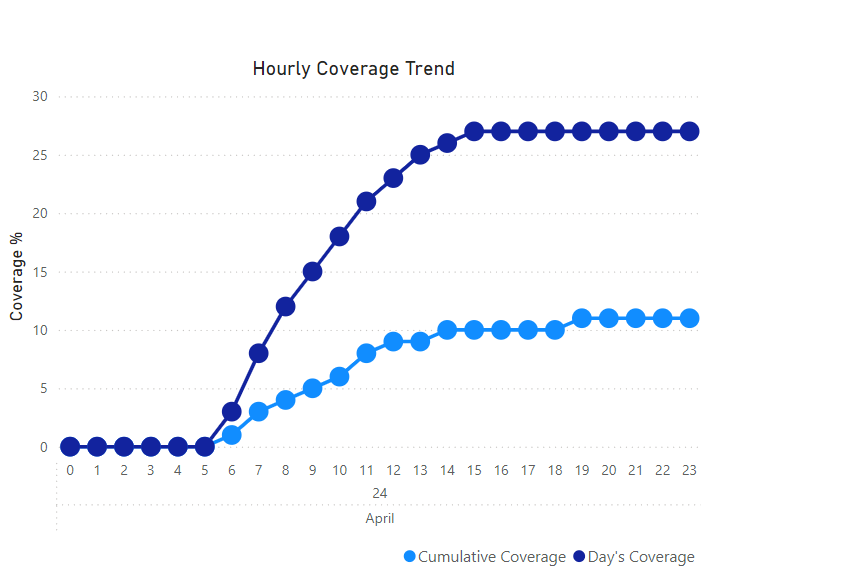

This screenshot's page, from the dashboard's own definition file:
{"tool":"powerbi","page":{"name":"Hourely Coverage Trend","canvas":[1280,720],"ordinal":5},"visuals":[{"type":"lineChart","title":"Hourly Coverage Trend","fields":{"Y":["Sum(cumulative-coverage-hourly?range=-3&group=month.data.cumulative)","Sum(cumulative-coverage-hourly?range=-3&group=month.data.currentDay)"],"Category":["cumulative-coverage-hourly?range=-3&group=month.data.time.Variation.Date Hierarchy.Month","cumulative-coverage-hourly?range=-3&group=month.data.time.Variation.Date Hierarchy.Day","cumulative-coverage-hourly?range=-3&group=month.data.time - Copy"]},"box":[386.8,149.3,597.2,442.2],"z":0}]}

Visuals, with their boxes on the page's 1280x720 design canvas (x1, y1, x2, y2). These are canvas units, not pixel positions in the 845x587 screenshot, which may show the page scaled, cropped or inside an application window:
"Hourly Coverage Trend" lineChart: crop(387, 149, 984, 592)
